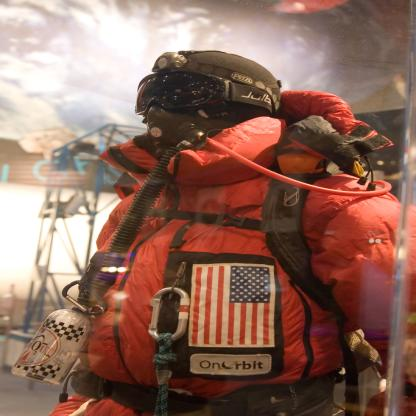Helmet: (134, 49, 284, 157)
